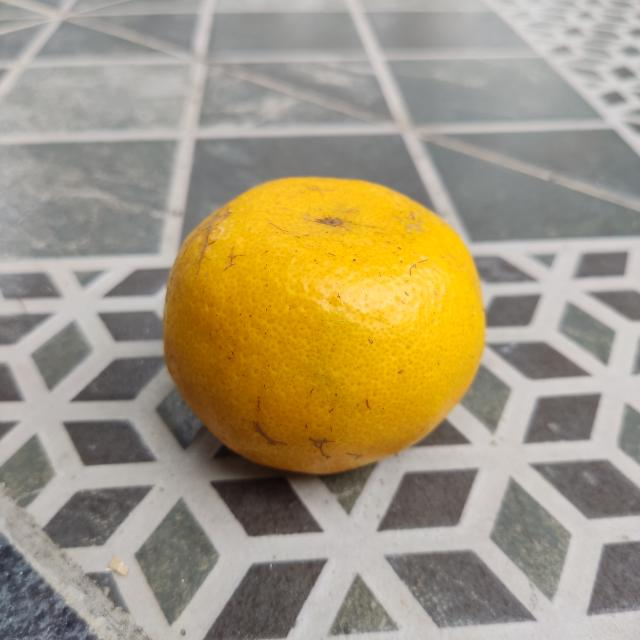orange: (156, 172, 489, 480)
